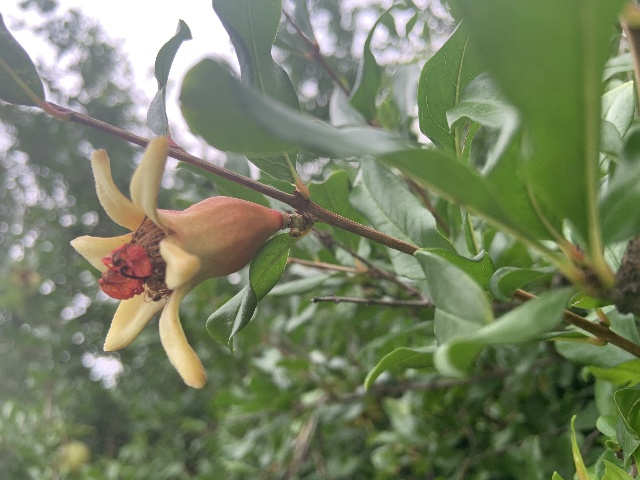early-fruit: (70, 133, 285, 391)
